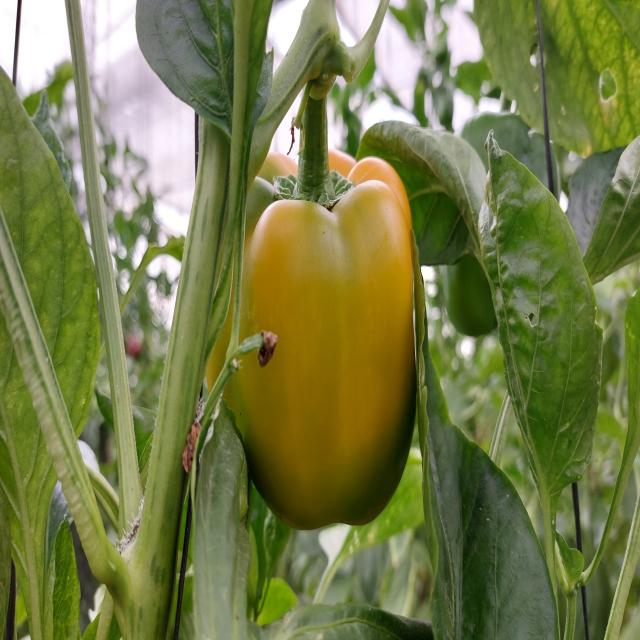GreenishYellow--Can-be-Harvested: (199, 125, 454, 521)
